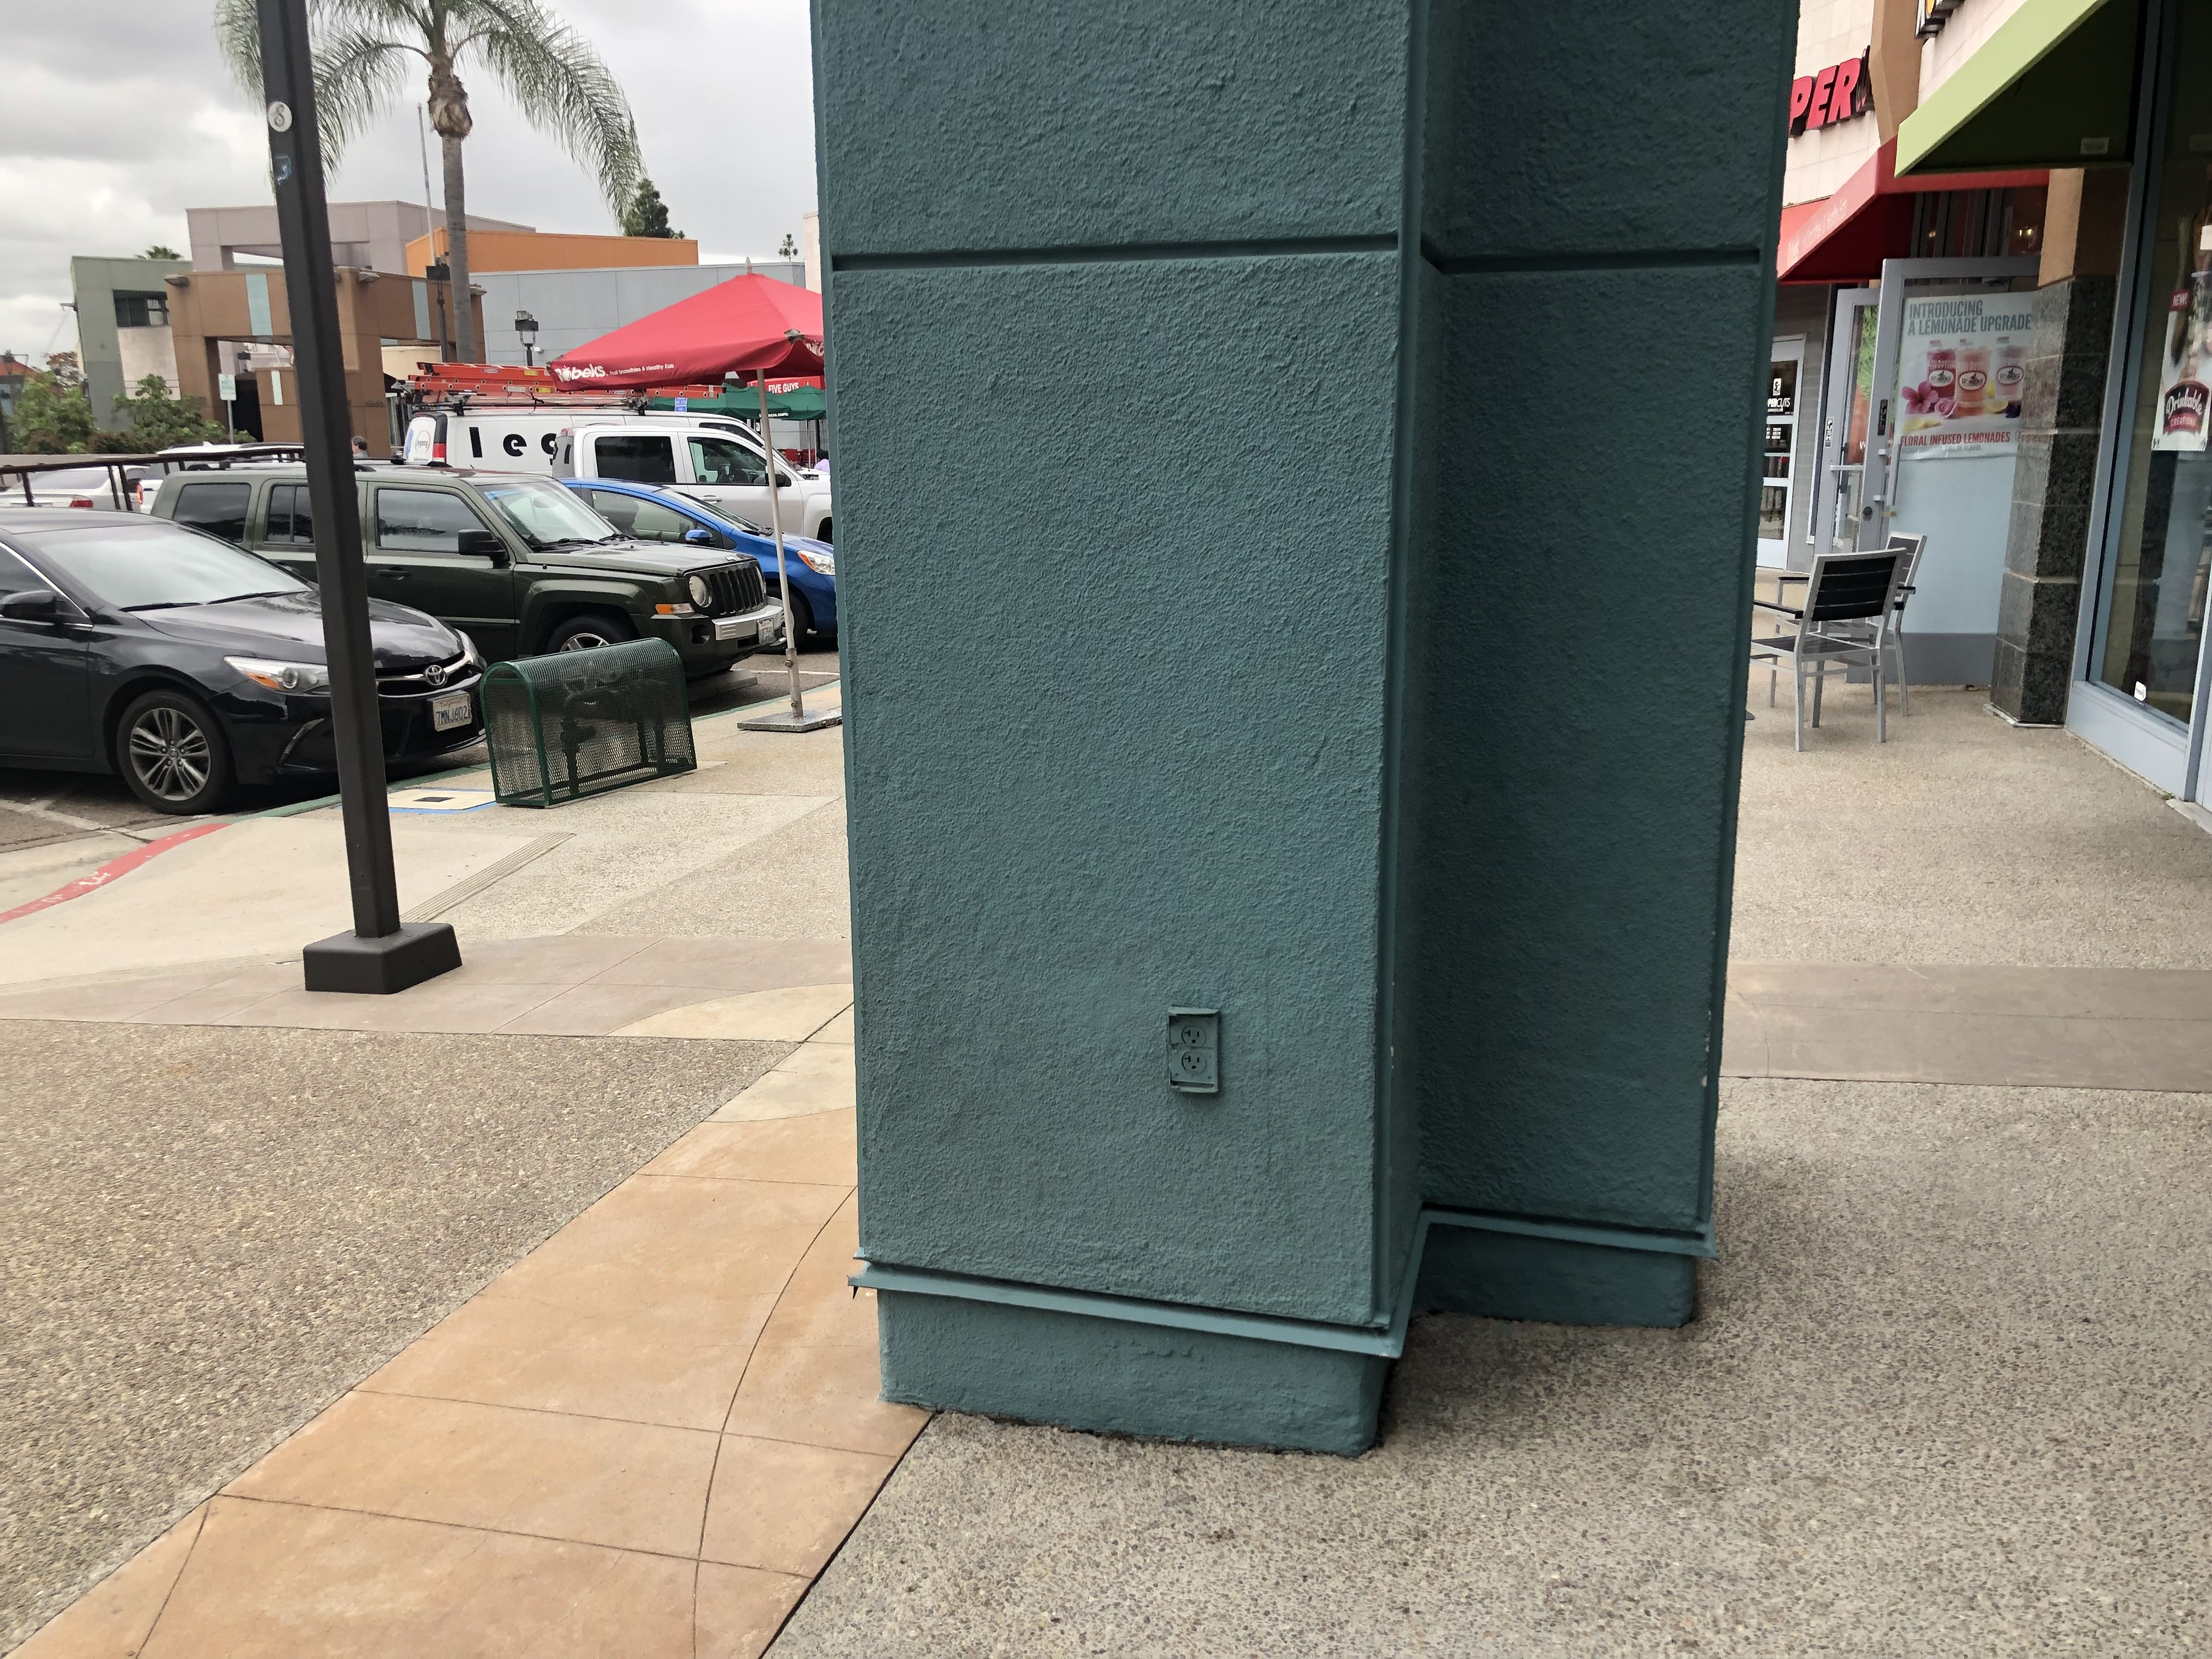Edge: (2, 816, 249, 917), (683, 673, 841, 725)
Obstacle: (792, 19, 1740, 1486), (1784, 5, 2207, 816), (218, 16, 481, 1018), (472, 643, 695, 802)
